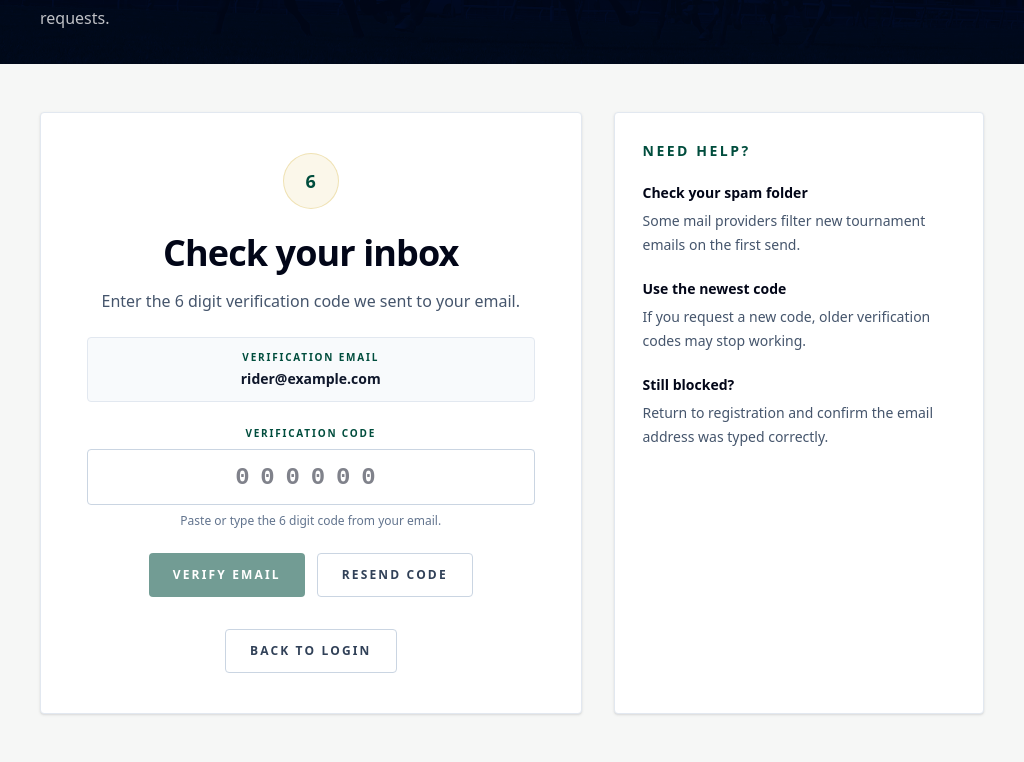
Test case: VerifyEmailPage › shows a helpful inbox state and resends verification email when an email is pending
(page scrolled)
Expected: the heading "Check your inbox" is shown, [163, 228, 459, 277]
Expected: the text "rider@example.com" is shown, [241, 369, 381, 388]
Click the button "Resend code" at point(395, 575), box [317, 553, 473, 597]
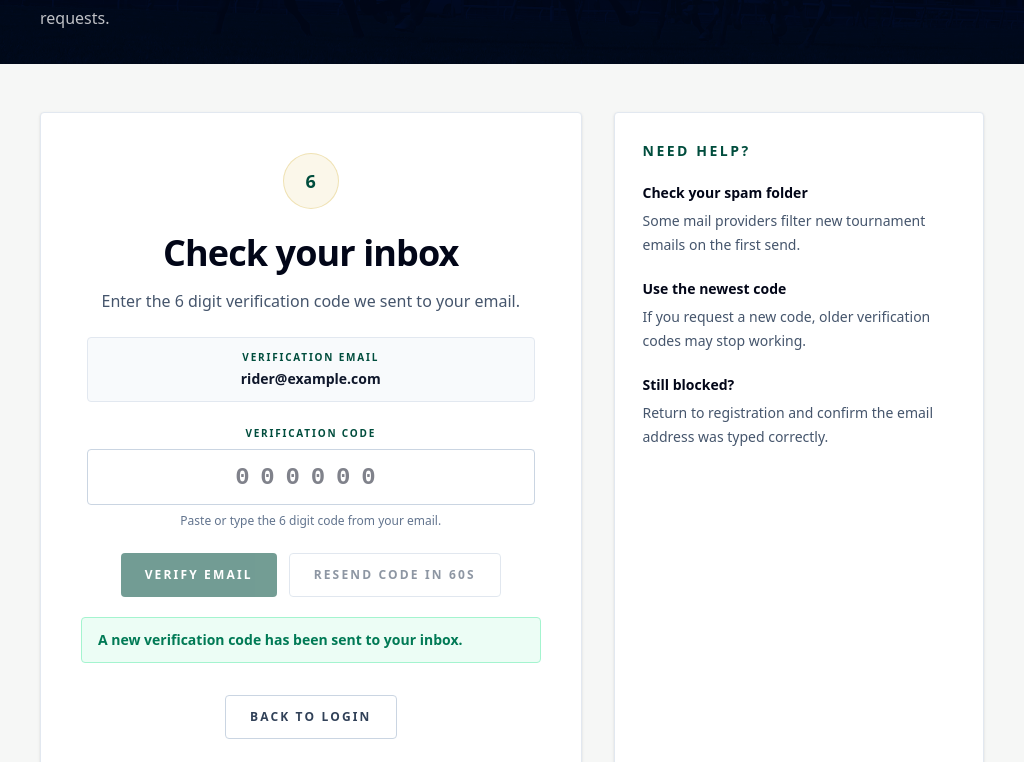
Expected: the text "A new verification code has been sent to your inbox." is shown, [81, 617, 540, 663]
